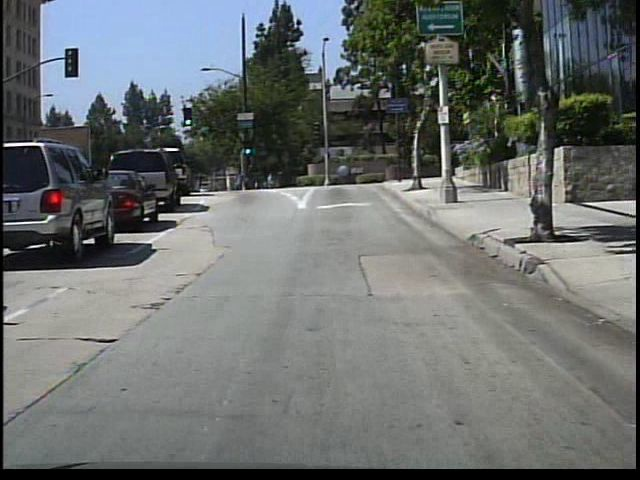person: (262, 167, 278, 192), (232, 167, 247, 192)
